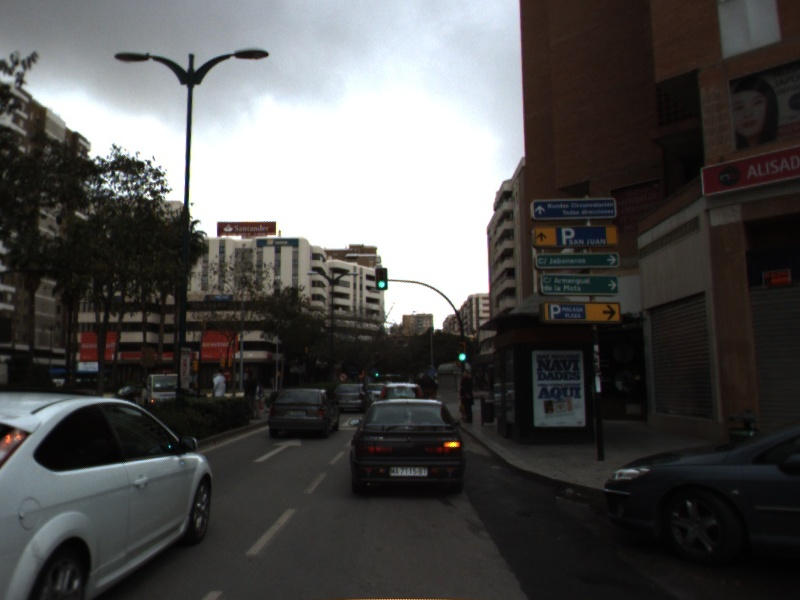STRAIGHT: (251, 436, 304, 464)
